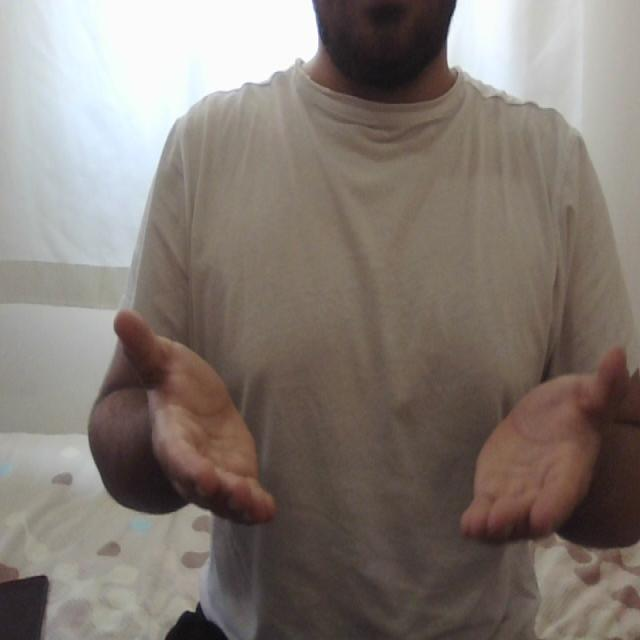Evet: (110, 308, 640, 549)
